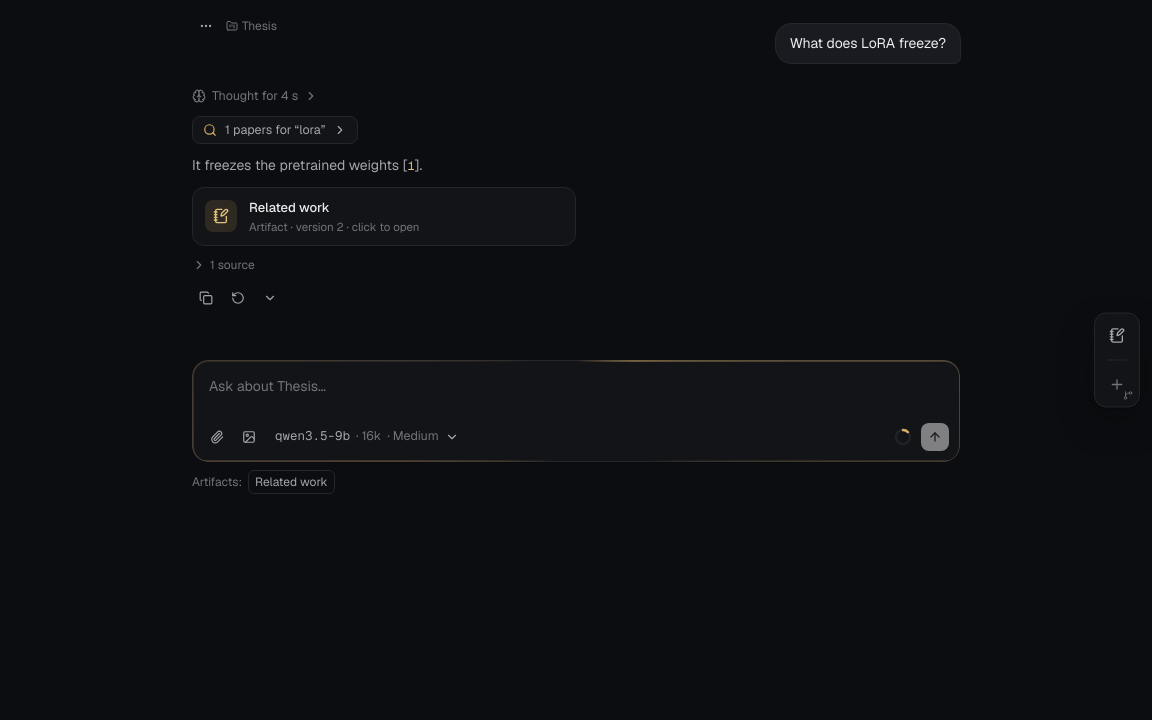
Scenario: ChatPage › shows each context with its device and speed, and loads a new one as soon as it is picked
Click the button titled "Model, context and effort" at (367, 437), box [267, 423, 467, 451]
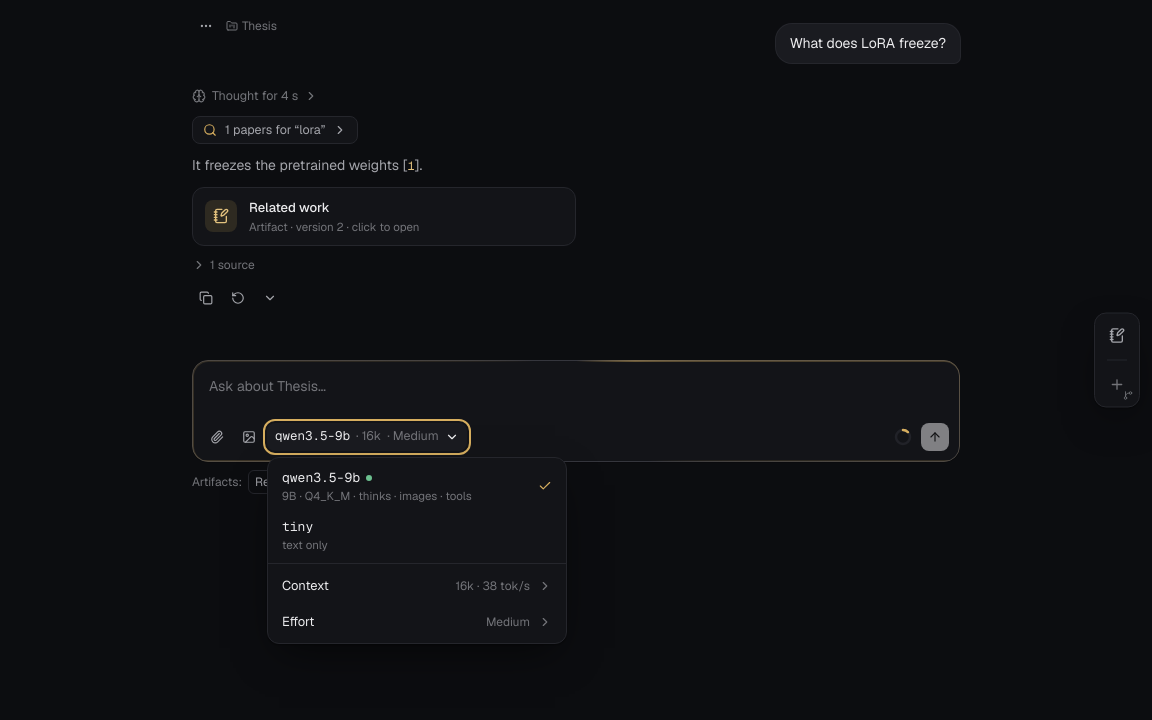
Expected: the button "Context 16k · 38 tok/s" is shown
Hover over the button "Context 16k · 38 tok/s" at (305, 586), box [272, 568, 562, 604]
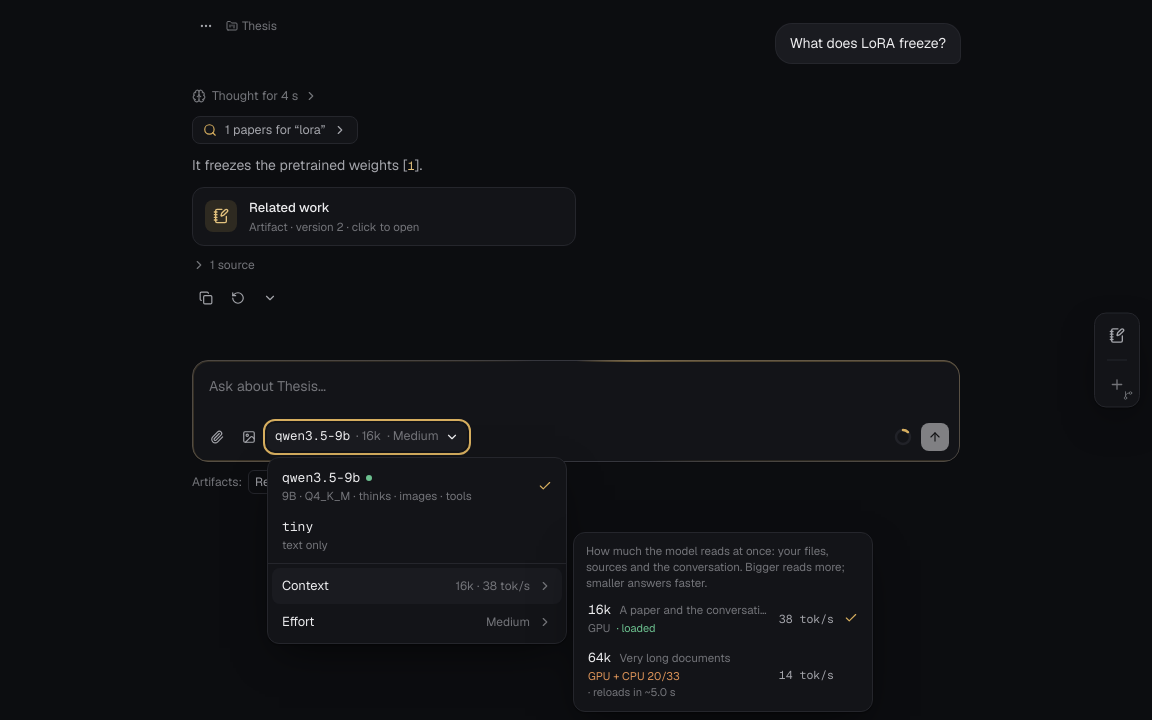
Click the radio button that starts with "64k" at (675, 658), box [578, 642, 868, 707]
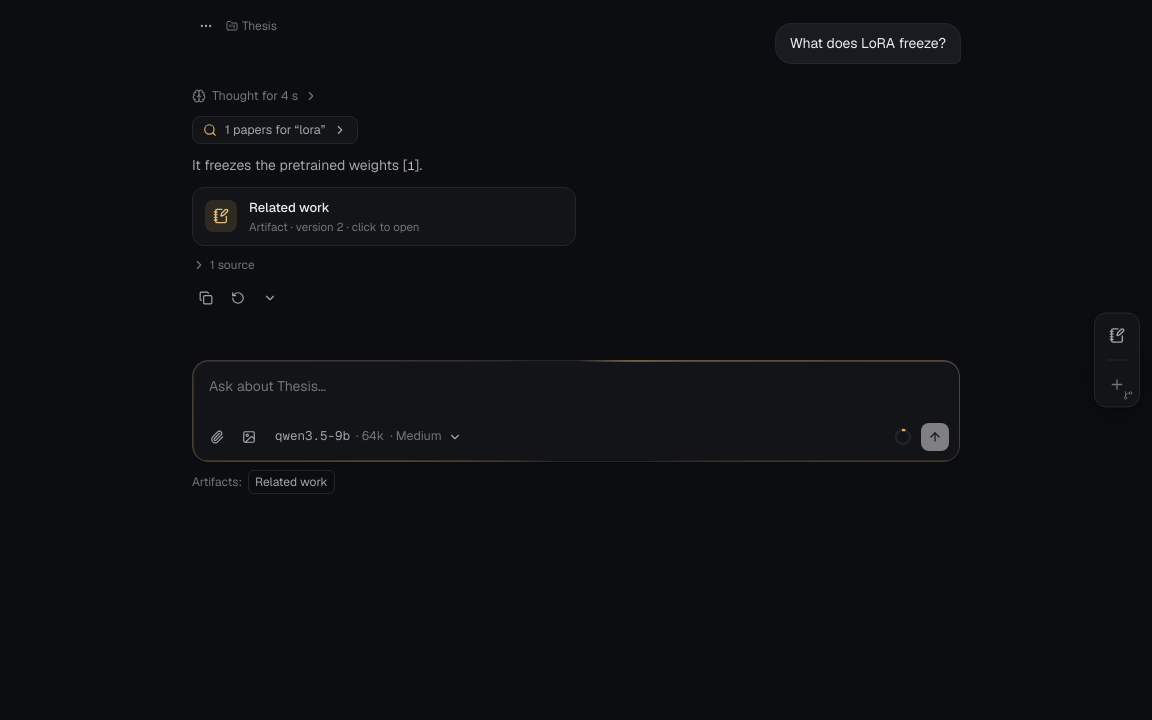
Expected: the button titled "Model, context and effort" shows "· 64k", [267, 423, 470, 451]
